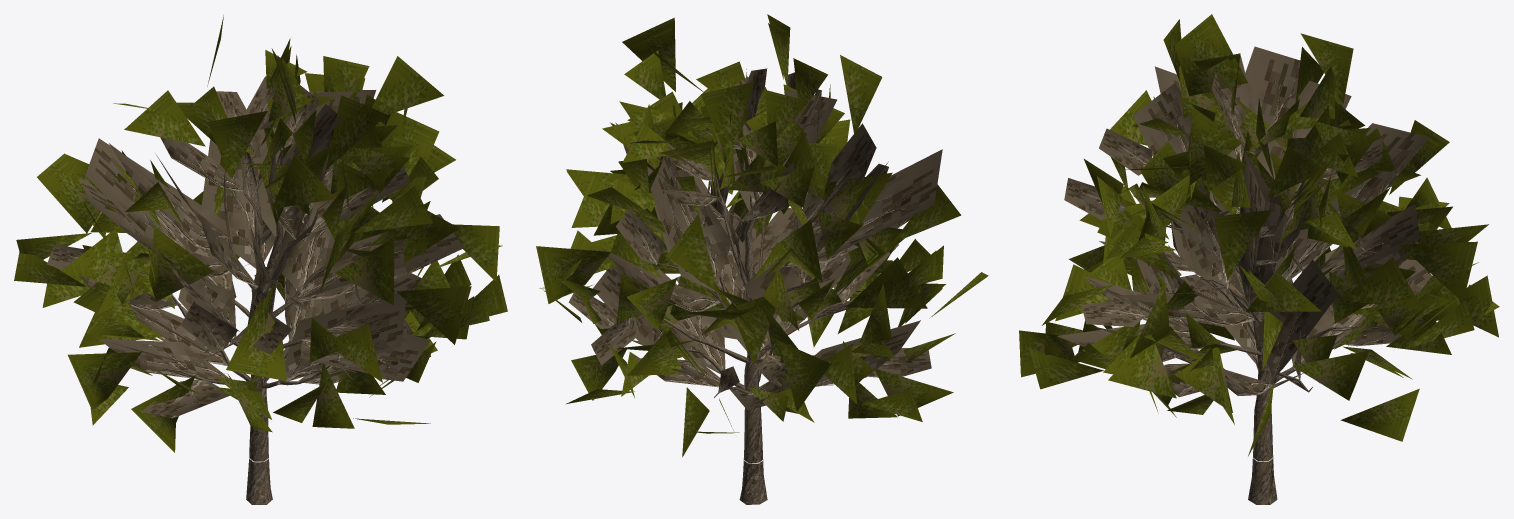
The model's file is anim-tree.glb.
The picture shows the model from 3 angles, left to right: view 1: azimuth 30°, elevation 25°; view 2: azimuth 150°, elevation 25°; view 3: azimuth 270°, elevation 25°; orthographic projection. The views are drawn at different scales.
Parts seen in each view (by area): view 1: low, high; view 2: low, high; view 3: low, high.
Boxes of the visible parts, <box> form: low: <box>14,15,507,504</box>; high: <box>19,21,498,504</box>; low: <box>536,14,988,504</box>; high: <box>544,23,984,503</box>; low: <box>1029,14,1499,504</box>; high: <box>1019,25,1493,504</box>.
Bounding box in the file's own units: 3.27 × 3.66 × 3.33.
Materials: 4 (3 with a texture image).
